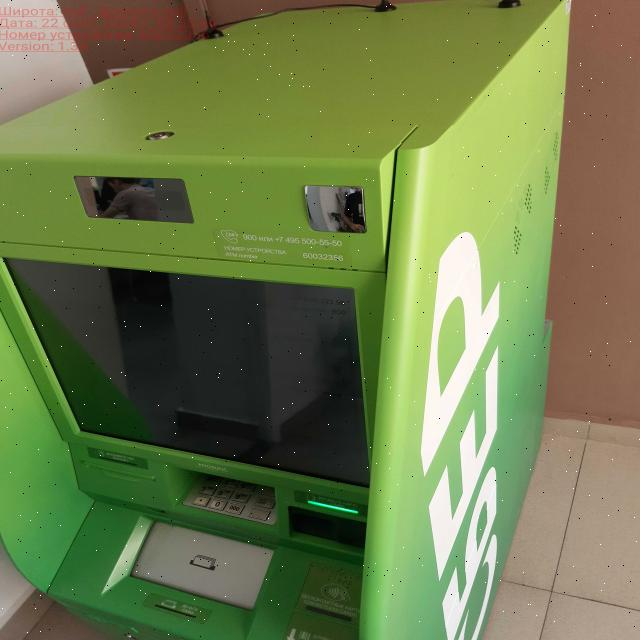bank: (1, 0, 574, 640)
